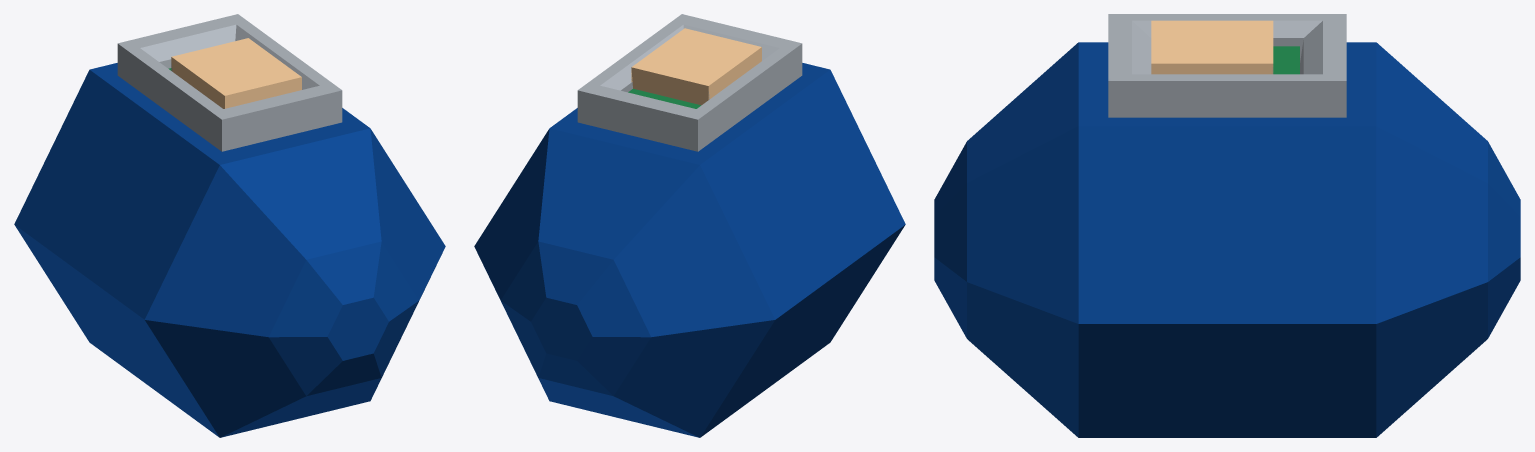
Rendered from bomb.fbx.
The picture shows the model from 3 angles, left to right: view 1: azimuth 30°, elevation 25°; view 2: azimuth 150°, elevation 25°; view 3: azimuth 270°, elevation 25°; orthographic projection. The views are drawn at different scales.
Visible parts, largest first — view 1: BombBody, Keyboard; view 2: BombBody, Keyboard; view 3: BombBody, Keyboard.
Part boxes in pixels (bbox=[...]): BombBody: bbox=[14, 63, 445, 437]; Keyboard: bbox=[117, 14, 342, 151]; BombBody: bbox=[474, 63, 905, 437]; Keyboard: bbox=[577, 14, 802, 151]; BombBody: bbox=[934, 42, 1520, 437]; Keyboard: bbox=[1108, 14, 1346, 117].
Bounding box in the file's own units: 200 × 197 × 295.
1 material, 1 textured.
